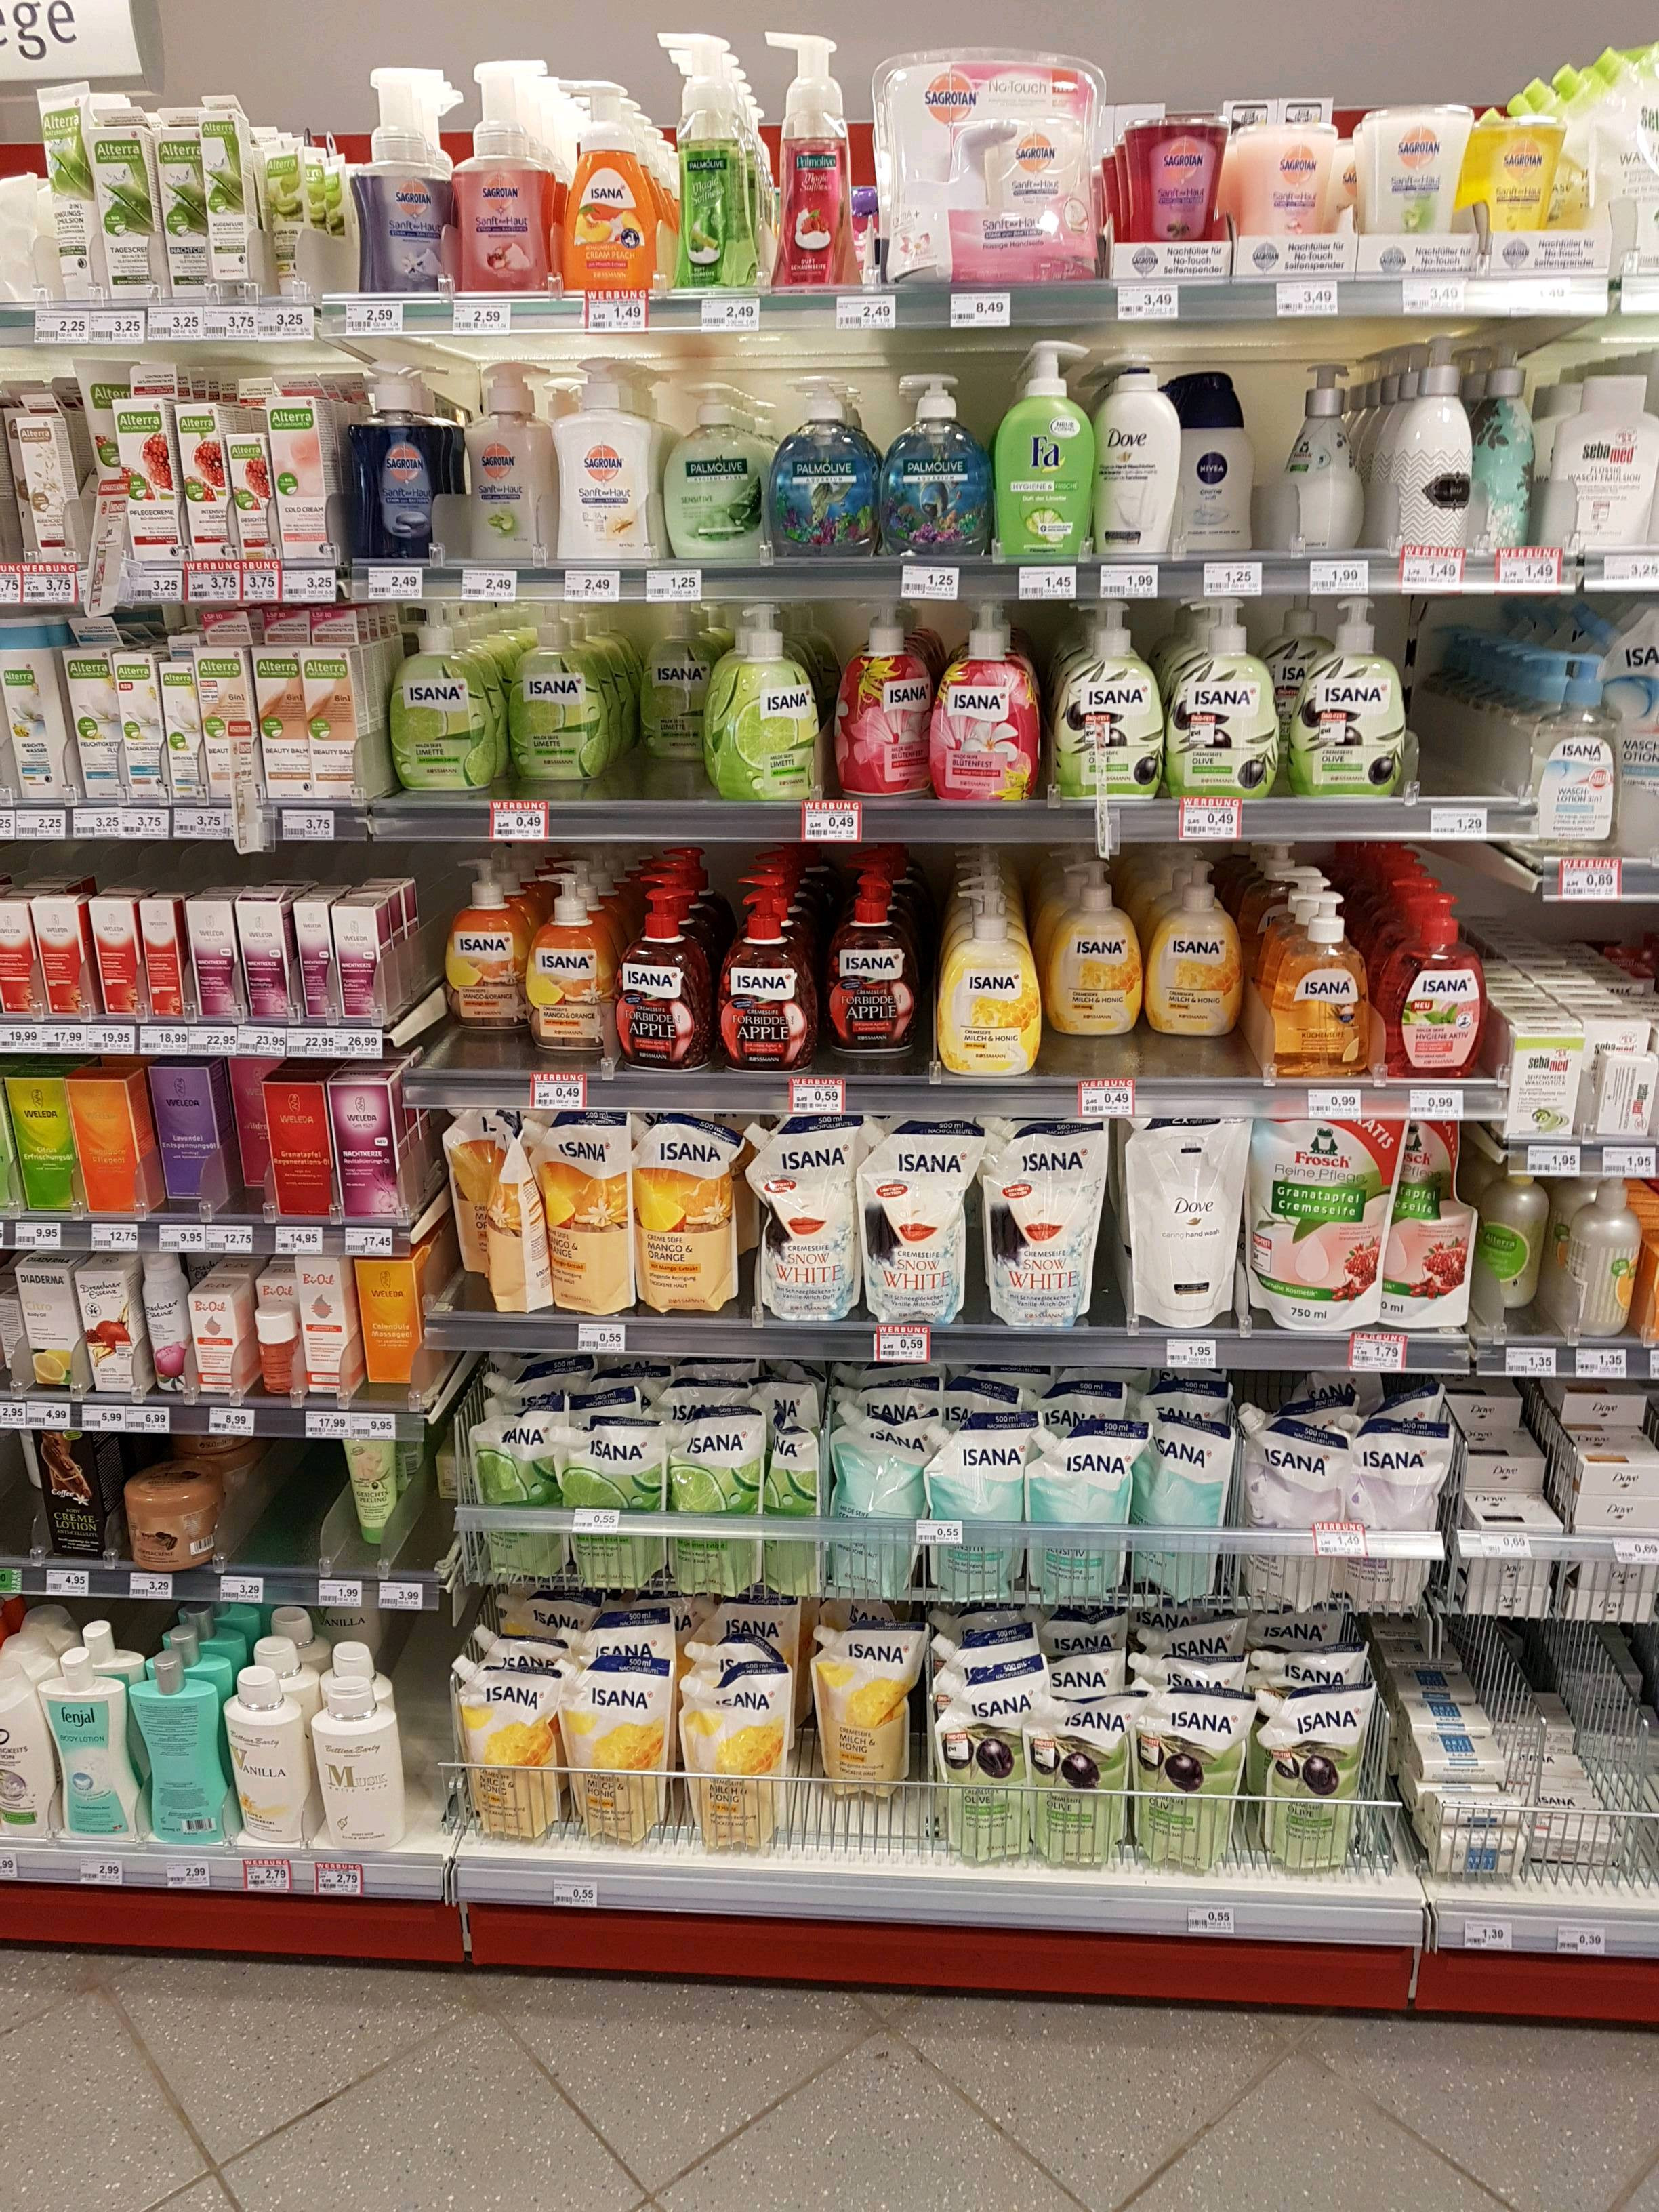Misplacement: (1180, 355, 1291, 554)
